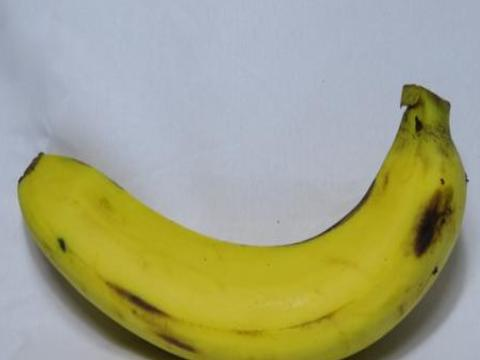freshripe: (11, 61, 479, 359)
